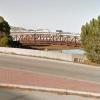Bridge: (8, 21, 83, 53)
